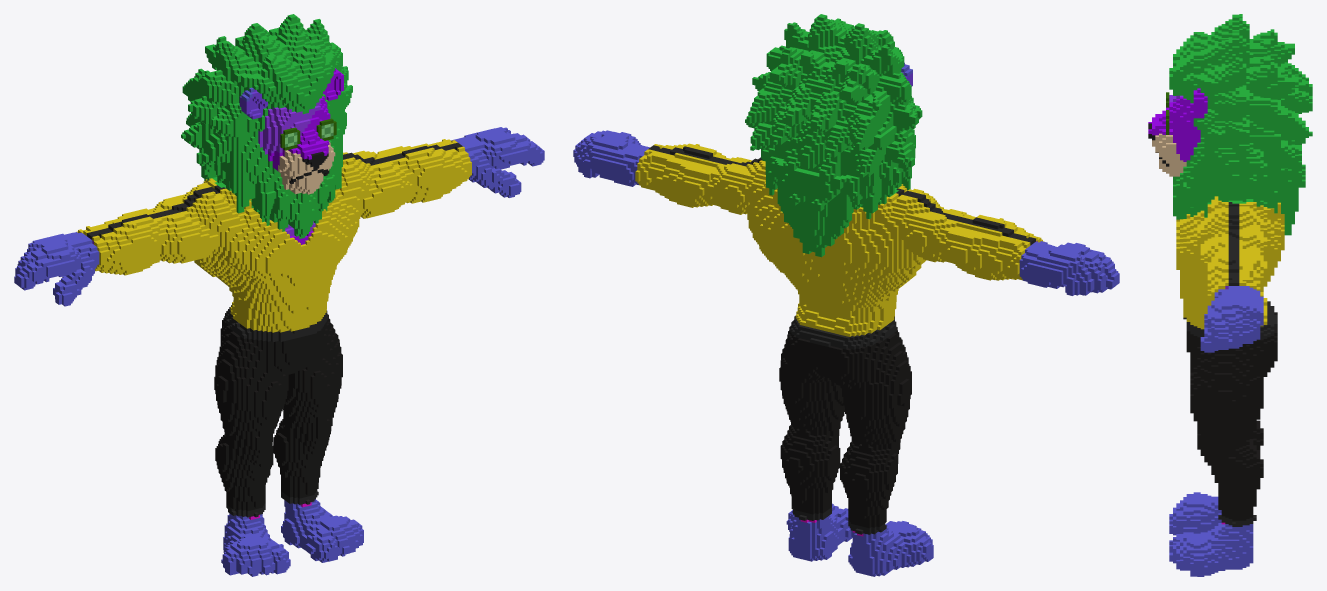
The model's file is 982-CAf9ifgM.fbx.
3 renders of one model, left to right at view 1: azimuth 30°, elevation 25°; view 2: azimuth 150°, elevation 25°; view 3: azimuth 270°, elevation 25°, orthographic. The views are drawn at different scales.
Visible parts, largest first — view 1: sad; view 2: sad; view 3: sad.
Boxes of the visible parts, <box> form: sad: <box>14,14,544,576</box>; sad: <box>573,14,1119,576</box>; sad: <box>1148,14,1312,576</box>.
Bounding box in the file's own units: 17.2 × 16.5 × 4.7.
Materials: 5 (5 with a texture image).
